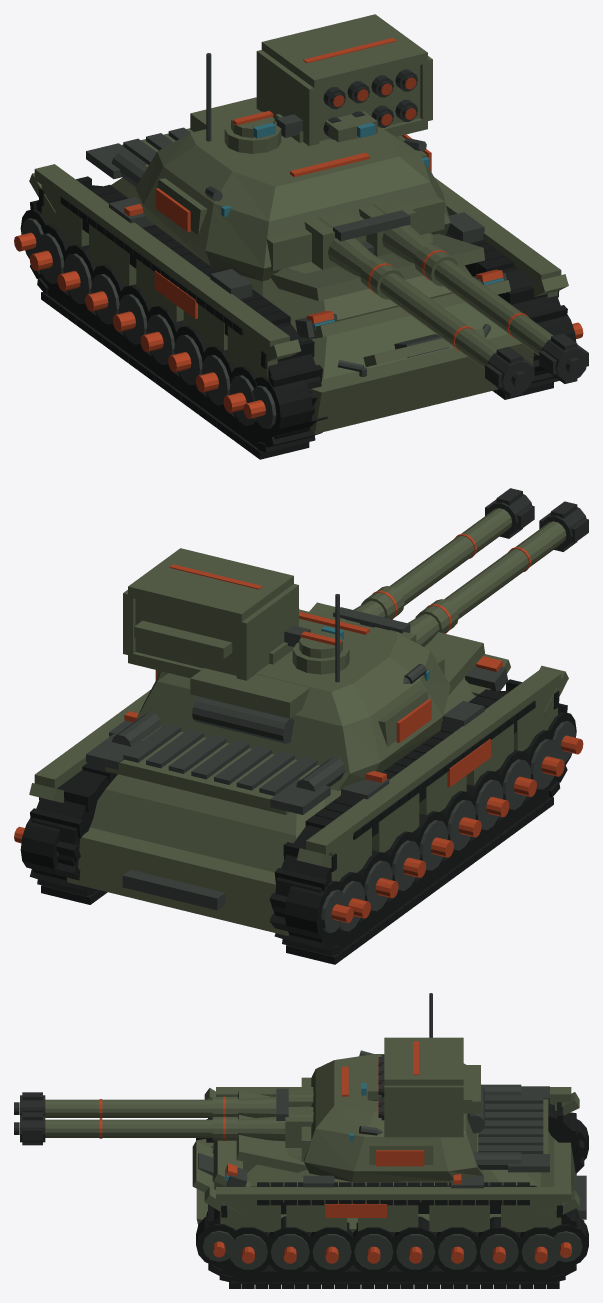
The model's file is Bastion_HT77_Static.obj.
3 renders of one model, top to bottom at view 1: azimuth 30°, elevation 25°; view 2: azimuth 150°, elevation 25°; view 3: azimuth 270°, elevation 25°, orthographic. The views are drawn at different scales.
Parts seen in each view (by area): view 1: Bastion_HT77_Static; view 2: Bastion_HT77_Static; view 3: Bastion_HT77_Static.
Boxes of the visible parts, left/top/right/bottom form: Bastion_HT77_Static: left=14, top=14, right=588, bottom=459; Bastion_HT77_Static: left=14, top=488, right=588, bottom=964; Bastion_HT77_Static: left=14, top=993, right=588, bottom=1288.
Bounding box in the file's own units: 5.27 × 4.35 × 10.45.
Materials: 1 (1 with a texture image).
